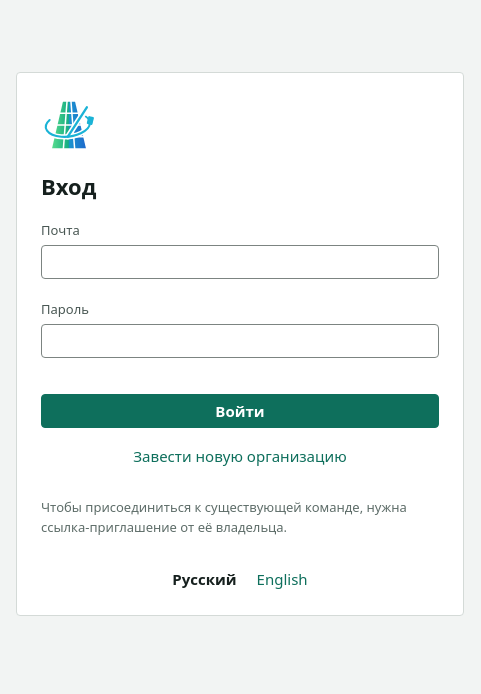
Test: на открытой — есть, и она ведёт к форме
Click the button "Завести новую организацию" at (240, 456), box [41,444,439,468]
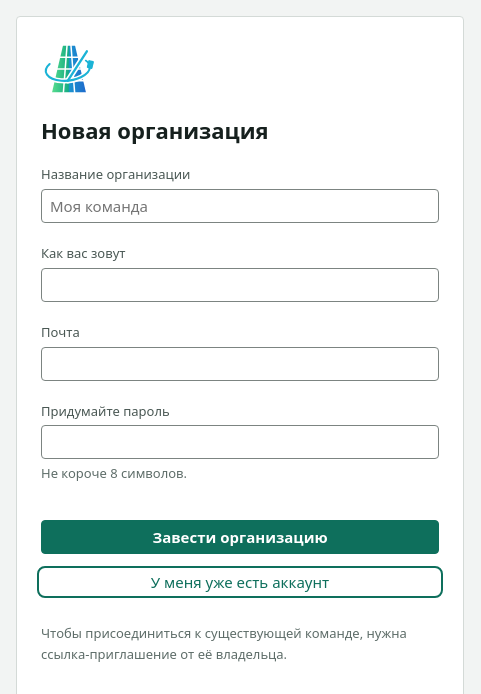
Expected: the heading "Новая организация" is shown, [41,115,269,145]
Expected: the button "У меня уже есть аккаунт" is shown, [41,570,439,594]
